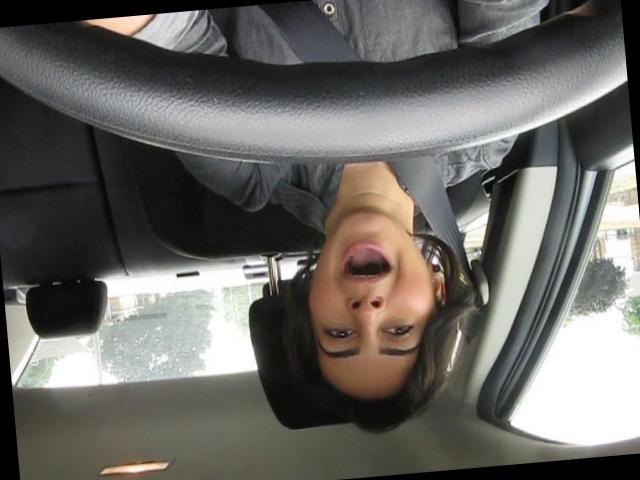eye_open: (379, 318, 421, 344), (320, 320, 359, 345)
face: (301, 206, 437, 384)
mouth_open: (335, 236, 396, 287)
